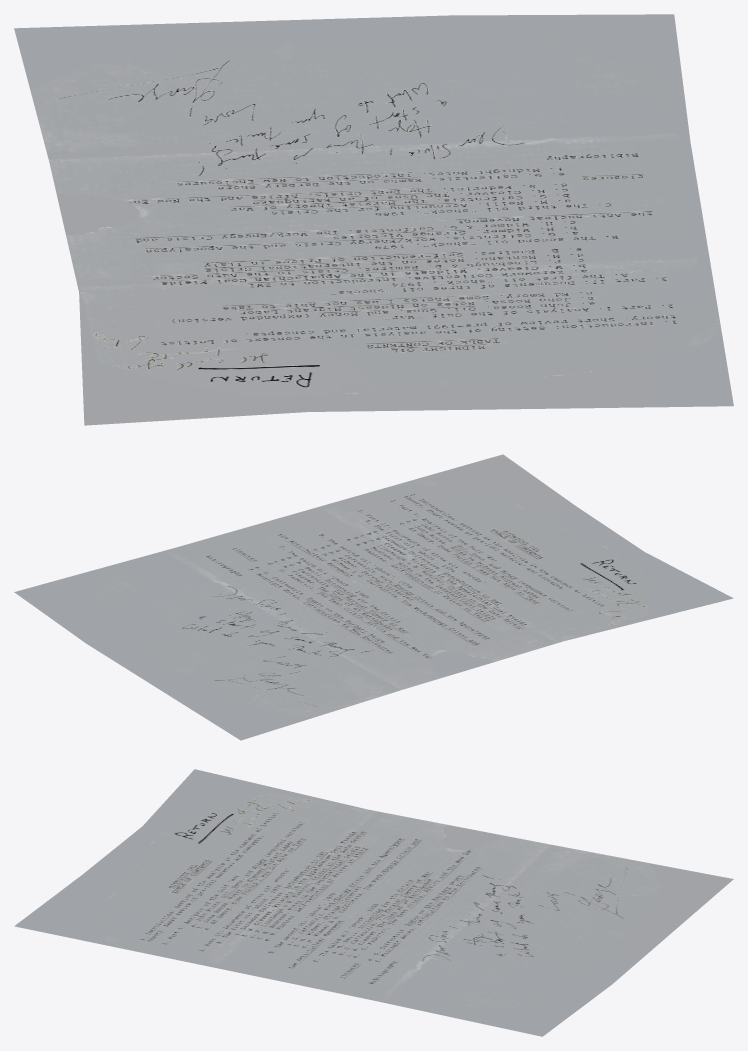
Rendered from Paper_2.fbx.
The picture shows the model from 3 angles, top to bottom: view 1: azimuth 30°, elevation 25°; view 2: azimuth 150°, elevation 25°; view 3: azimuth 270°, elevation 25°; orthographic projection. The views are drawn at different scales.
Parts seen in each view (by area): view 1: Paper_2; view 2: Paper_2; view 3: Paper_2.
Part boxes in pixels (left/top/right/bottom): Paper_2: left=14, top=14, right=733, bottom=425; Paper_2: left=14, top=454, right=733, bottom=740; Paper_2: left=14, top=769, right=733, bottom=1036.
Bounding box in the file's own units: 69.34 × 0.1587 × 78.86.
